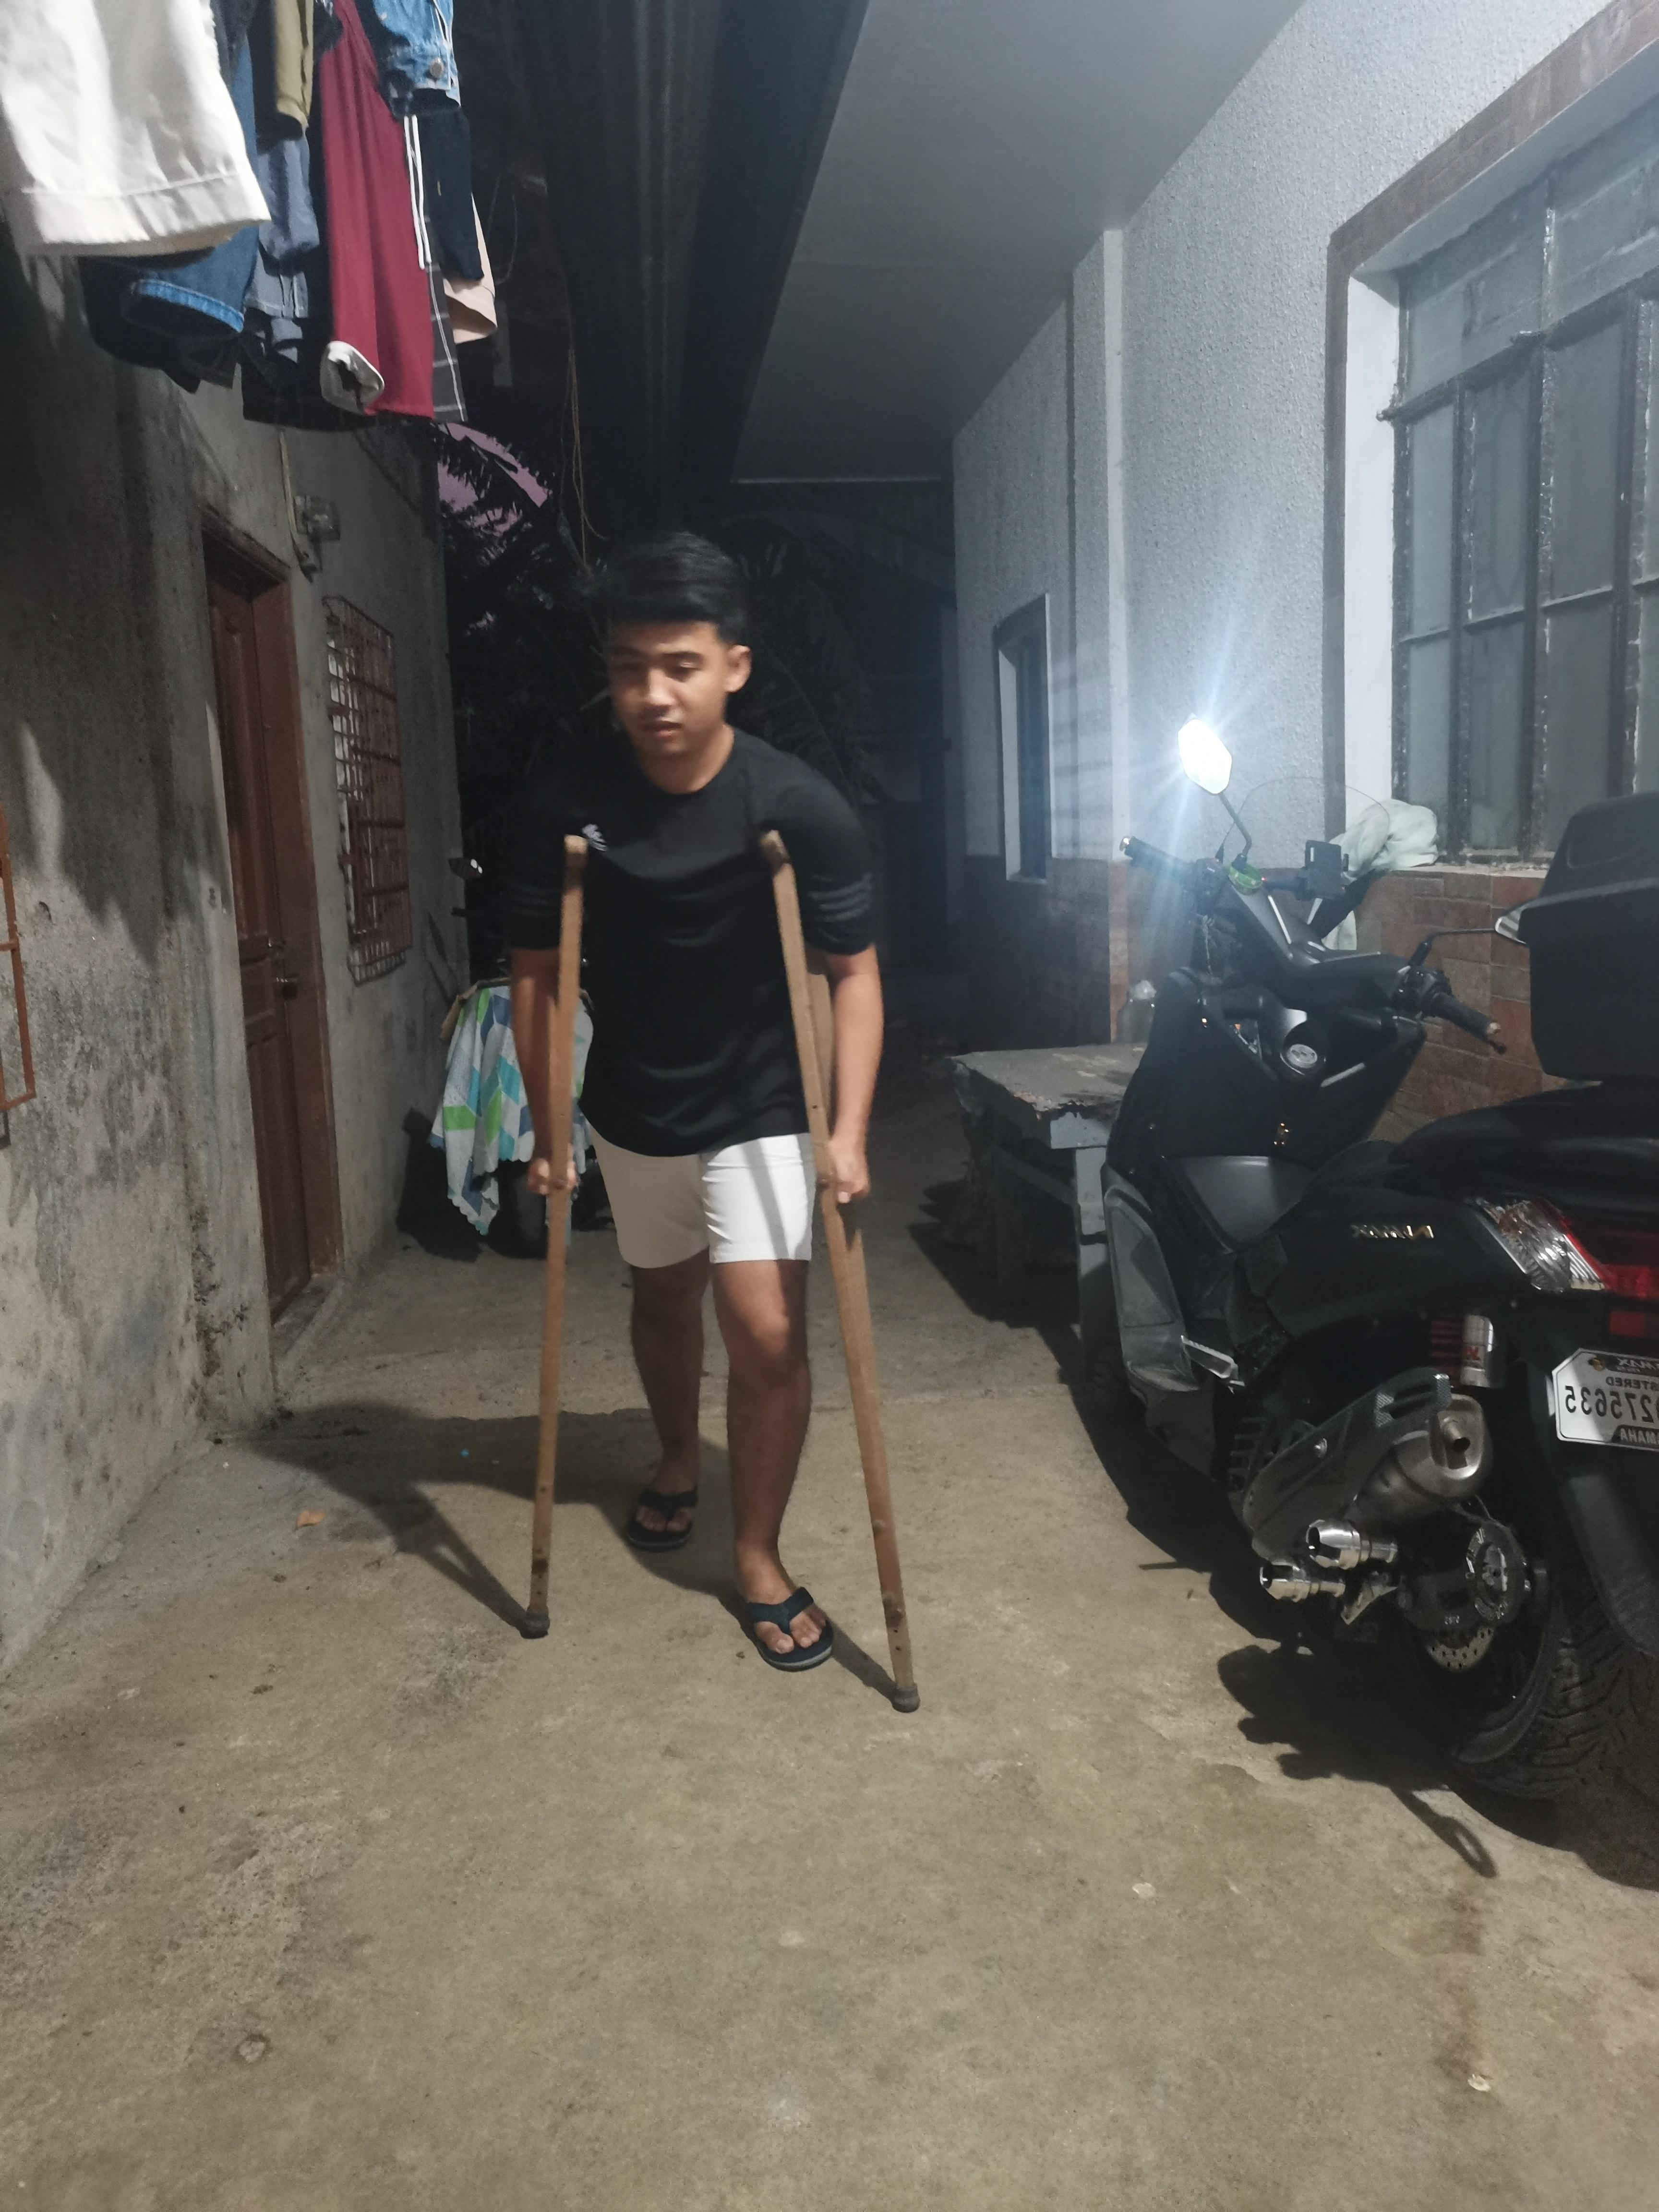crutches: (516, 529, 924, 1710)
